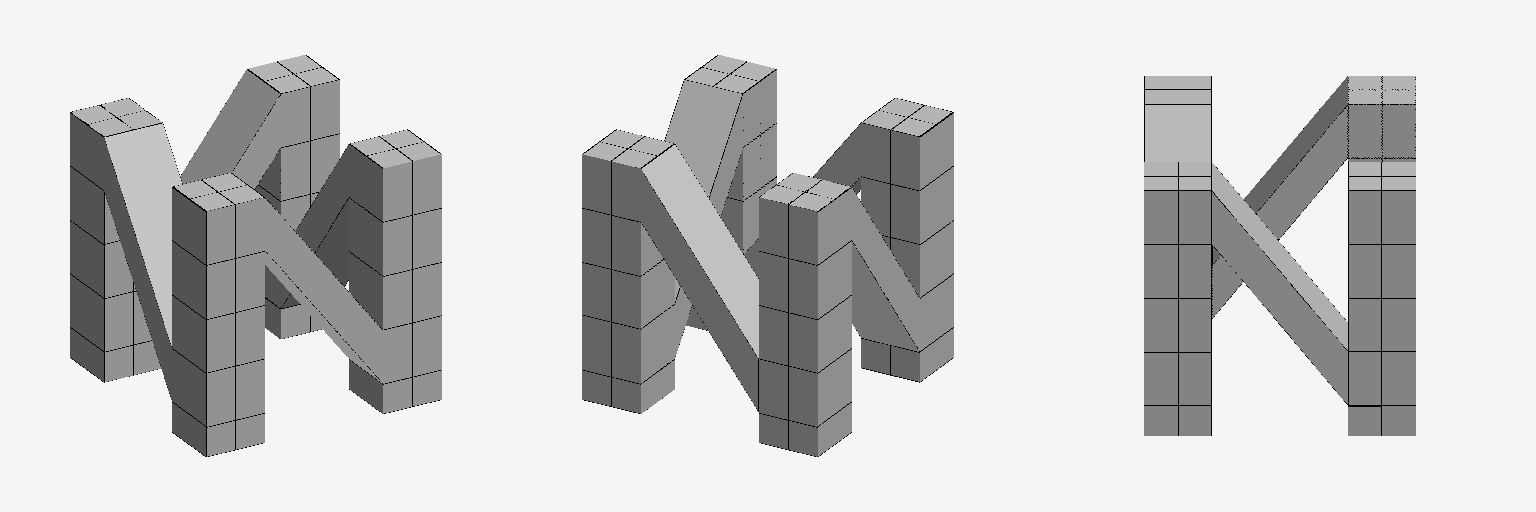
3 renders of one model, left to right at view 1: azimuth 30°, elevation 25°; view 2: azimuth 150°, elevation 25°; view 3: azimuth 270°, elevation 25°, orthographic.
Parts seen in each view (by area): view 1: support_Cube; view 2: support_Cube; view 3: support_Cube.
Boxes of the visible parts, box(x1,y1,x2,y2) form: support_Cube: box(70, 55, 441, 456); support_Cube: box(582, 55, 953, 456); support_Cube: box(1144, 76, 1415, 435).
Bounding box in the file's own units: 2 × 1.99 × 2.
1 materials, 1 textured.